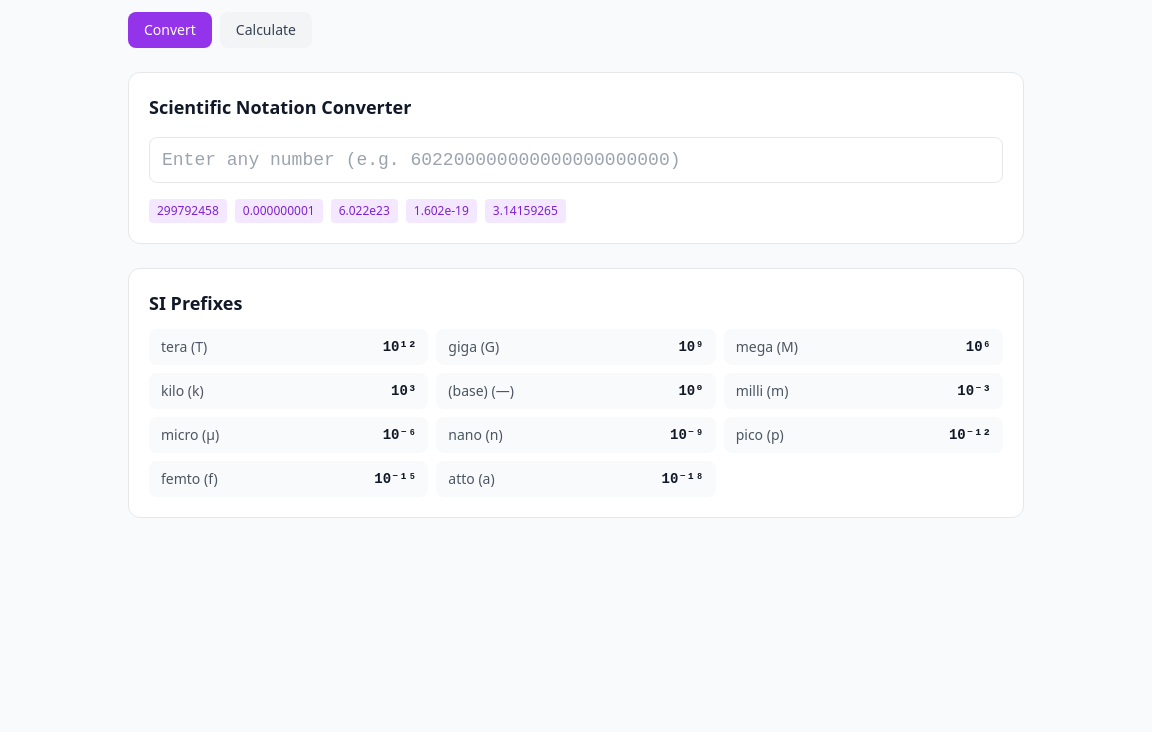
Test case: ScientificNotationCalculator – functional › uses quick-fill example buttons
The width and height of the screenshot is (1152, 732).
Click the button "299792458" at point(188, 211), box [149,199,227,223]
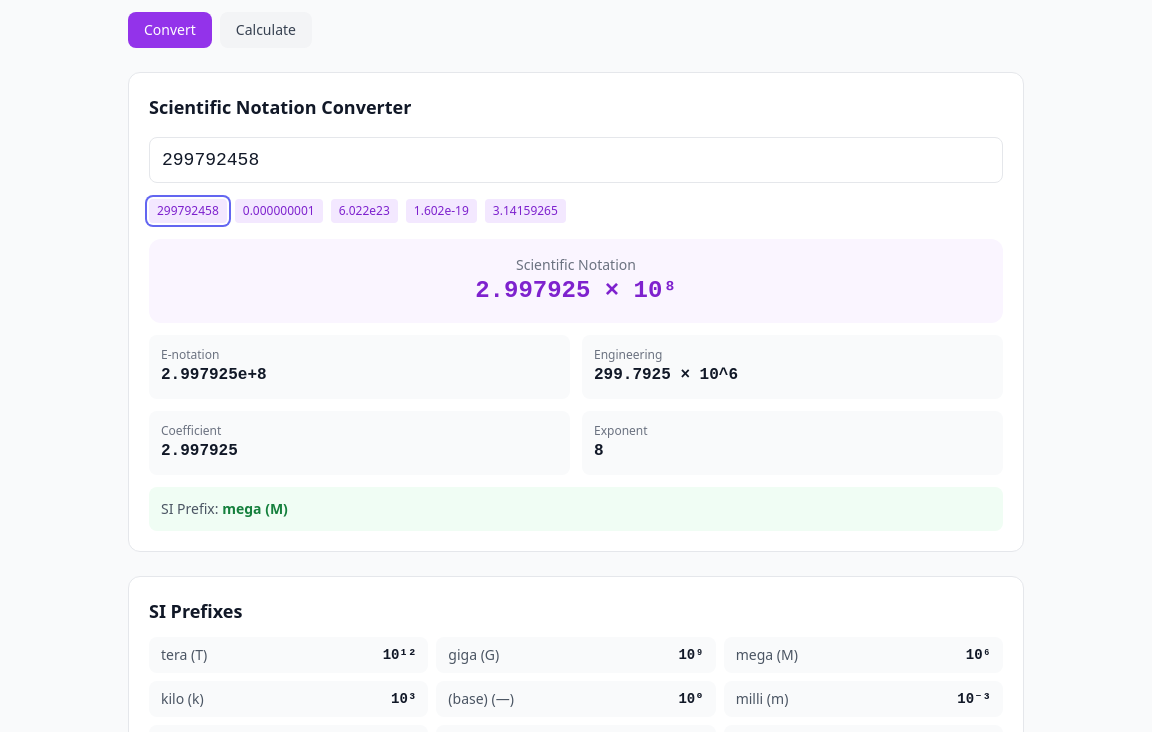
Result: the text "2.997925 × 10⁸" is shown at [475,277,677,304]
